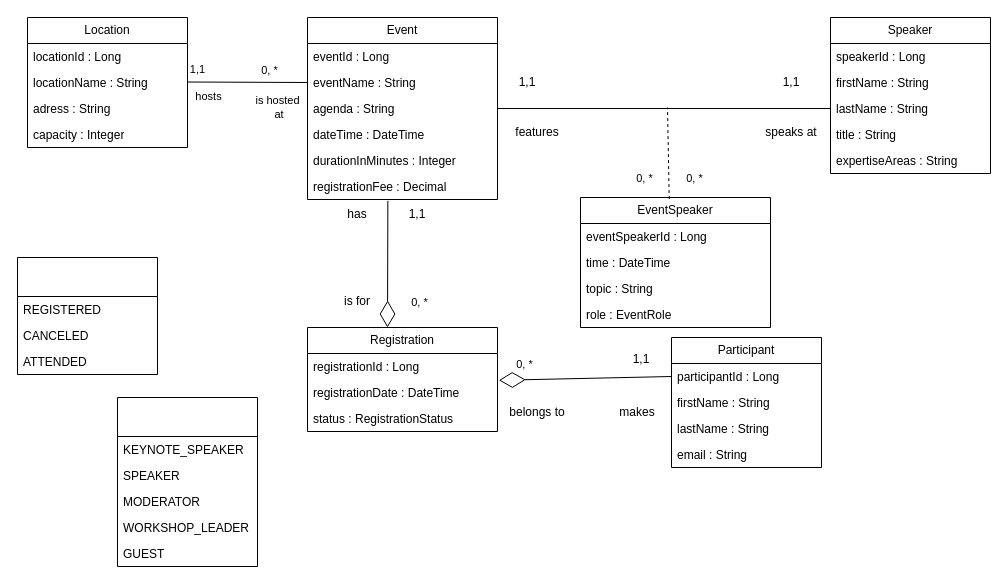
Some shapes in this 1008 by 587 pixel diagram are drawn without their labels. Here are the shapes that lost their labels. From the top down, the box of each, then its label:
(16, 256, 158, 374): <<enumeration>> RegistrationStatus
(116, 396, 258, 566): <<enumeration>> EventRole
